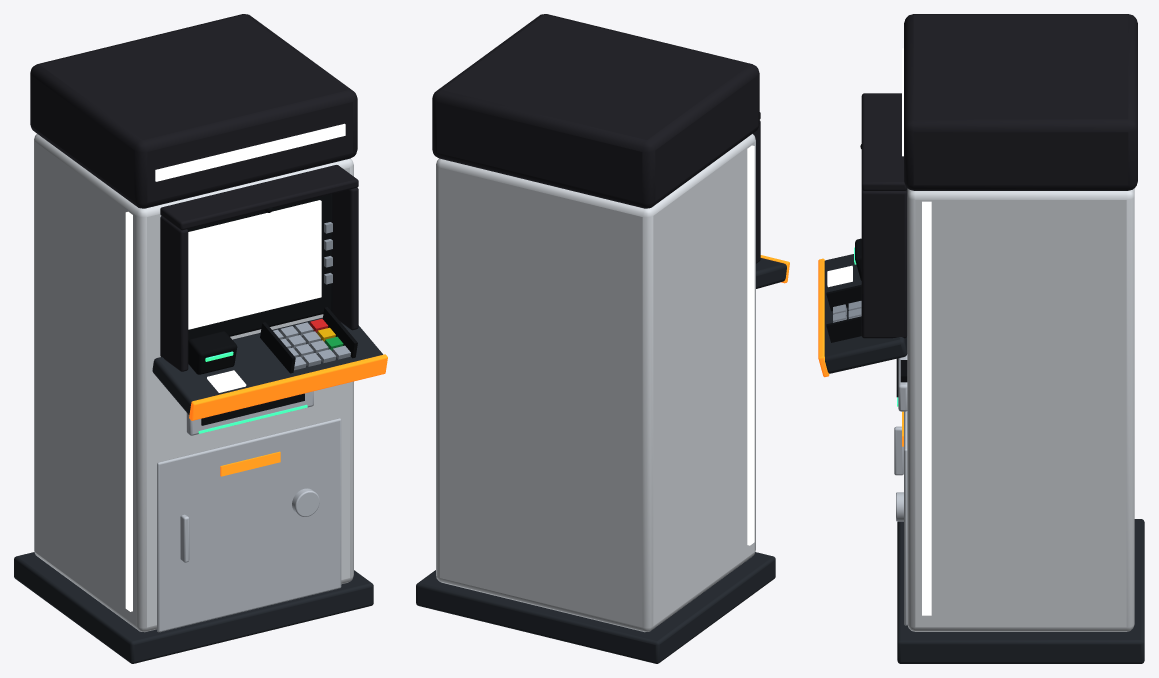
The model's file is atm.glb.
3 renders of one model, left to right at view 1: azimuth 30°, elevation 25°; view 2: azimuth 150°, elevation 25°; view 3: azimuth 270°, elevation 25°, orthographic. The views are drawn at different scales.
Parts seen in each view (by area): view 1: Body, Header, SafeDoor, Screen, Plinth, HoodTop, Shelf, HoodL, ShelfLip, HoodR, ScreenBezel, SideStripL (+10 smaller); view 2: Body, Header, Plinth, SideStripL, Shelf, HoodL; view 3: Body, Header, Plinth, HoodR, SideStripR, HoodTop, Shelf, SafeDoor, ShelfLip, PinShieldR, PinShieldL.
Part boxes in pixels (bbox=[...]): Body: bbox=[34, 134, 353, 632]; Header: bbox=[30, 14, 357, 208]; SafeDoor: bbox=[157, 418, 341, 632]; Screen: bbox=[188, 200, 321, 329]; Plinth: bbox=[14, 552, 373, 663]; HoodTop: bbox=[160, 165, 358, 230]; Shelf: bbox=[152, 317, 382, 414]; HoodL: bbox=[160, 216, 188, 371]; ShelfLip: bbox=[189, 354, 387, 420]; HoodR: bbox=[331, 187, 358, 330]; ScreenBezel: bbox=[187, 194, 332, 340]; SideStripL: bbox=[125, 211, 132, 611]; Body: bbox=[436, 134, 755, 632]; Header: bbox=[432, 14, 759, 208]; Plinth: bbox=[416, 552, 775, 663]; SideStripL: bbox=[747, 145, 754, 545]; Shelf: bbox=[756, 258, 786, 288]; HoodL: bbox=[753, 120, 760, 263]; Body: bbox=[907, 188, 1134, 631]; Header: bbox=[904, 14, 1137, 190]; Plinth: bbox=[897, 519, 1144, 663]; HoodR: bbox=[861, 190, 907, 338]; SideStripR: bbox=[922, 201, 931, 615]; HoodTop: bbox=[861, 93, 907, 190]; Shelf: bbox=[824, 254, 907, 373]; SafeDoor: bbox=[904, 411, 907, 625]; ShelfLip: bbox=[818, 258, 829, 377]; PinShieldR: bbox=[826, 316, 861, 342]; PinShieldL: bbox=[826, 284, 861, 311].
Bounding box in the file's own units: 0.9 × 1.82 × 1.
